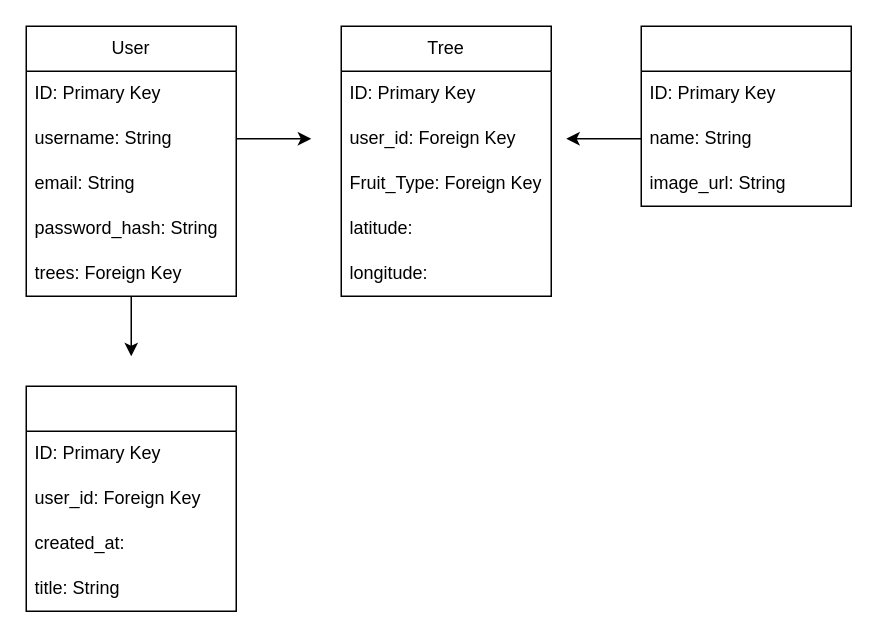
This 878x638 diagram has some shape labels left out. Here are the shapes that lost their labels. From the top down, the box of each, then its label:
(640, 25, 851, 206): Fruit Type
(25, 385, 236, 611): Forum
